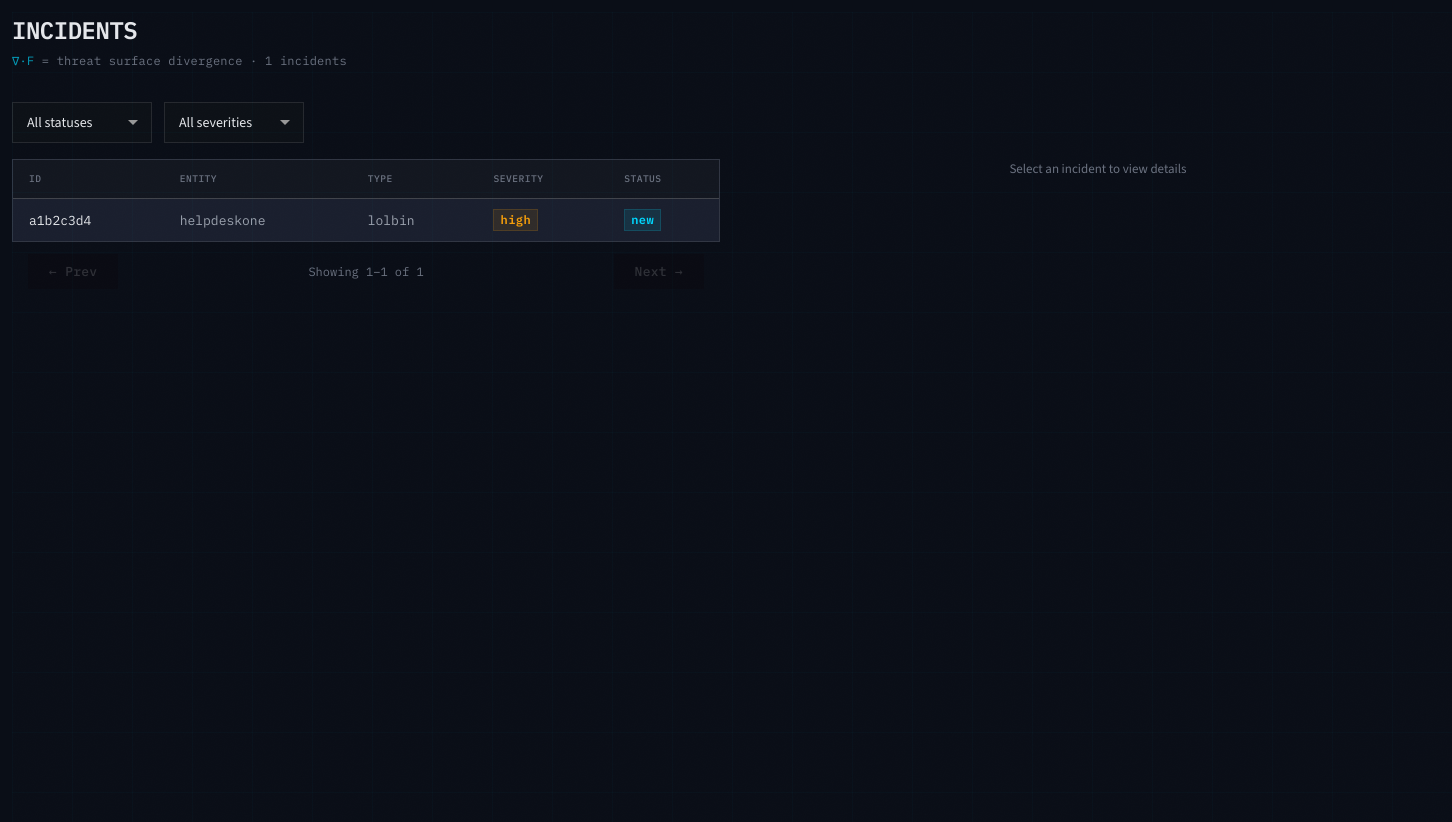
Test: SupervisorReportCard (Phase 3, R-1/FR-1/D-10) › absent: honest banner, no fabricated report
This screenshot has width=1452, height=822.
Click the text "helpdeskone" at {"x": 258, "y": 220}, box [164,199,352,241]
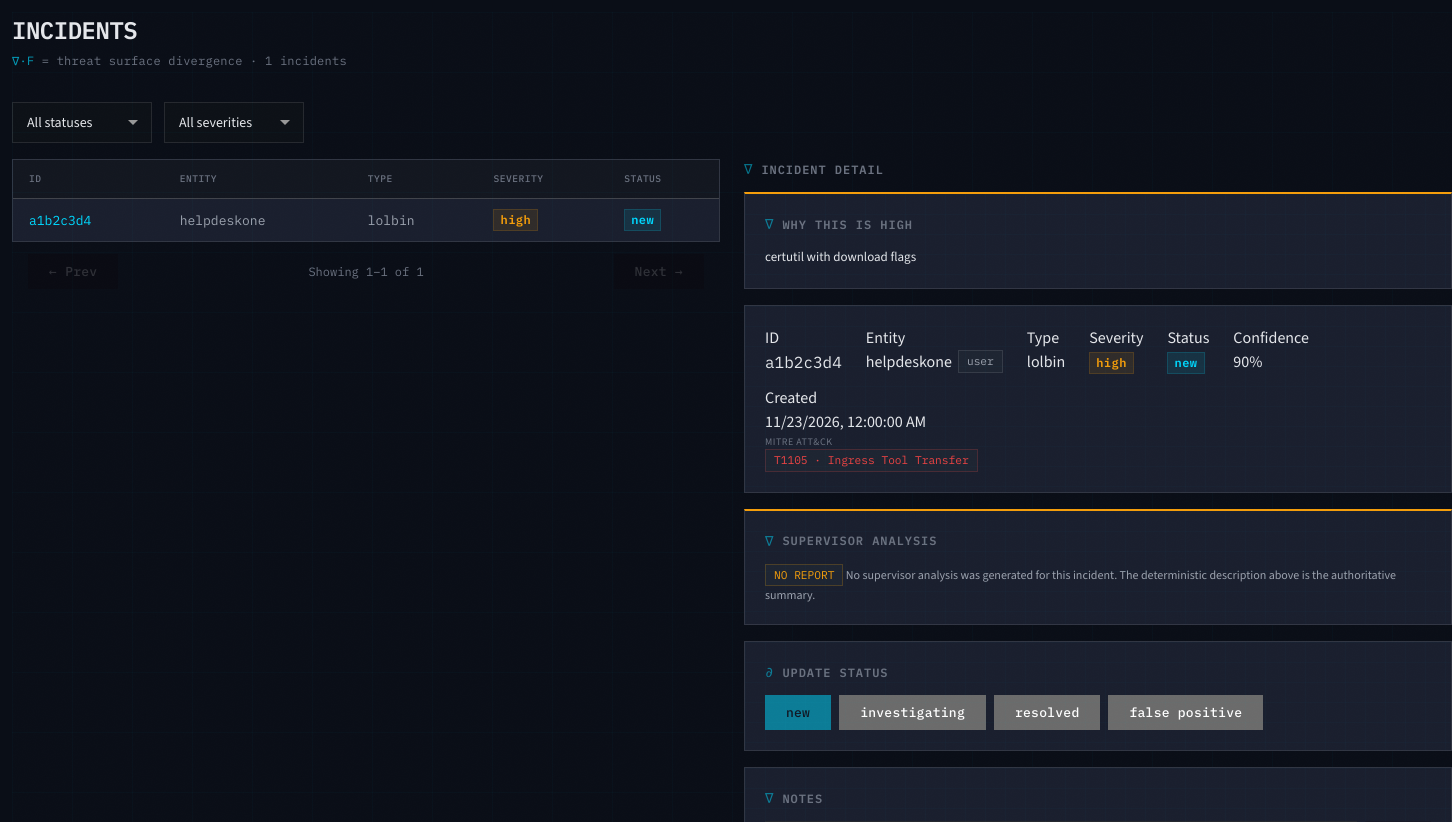
Expected: the text "SUPERVISOR ANALYSIS" is shown, [782,533,937,548]
Expected: the text "NO REPORT" is shown, [765,564,843,586]
Expected: the text "No supervisor analysis was generated" is shown, [846,567,1117,583]
